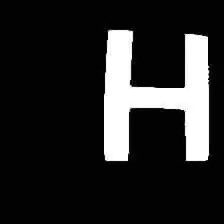LTR_H: (95, 18, 214, 166)
